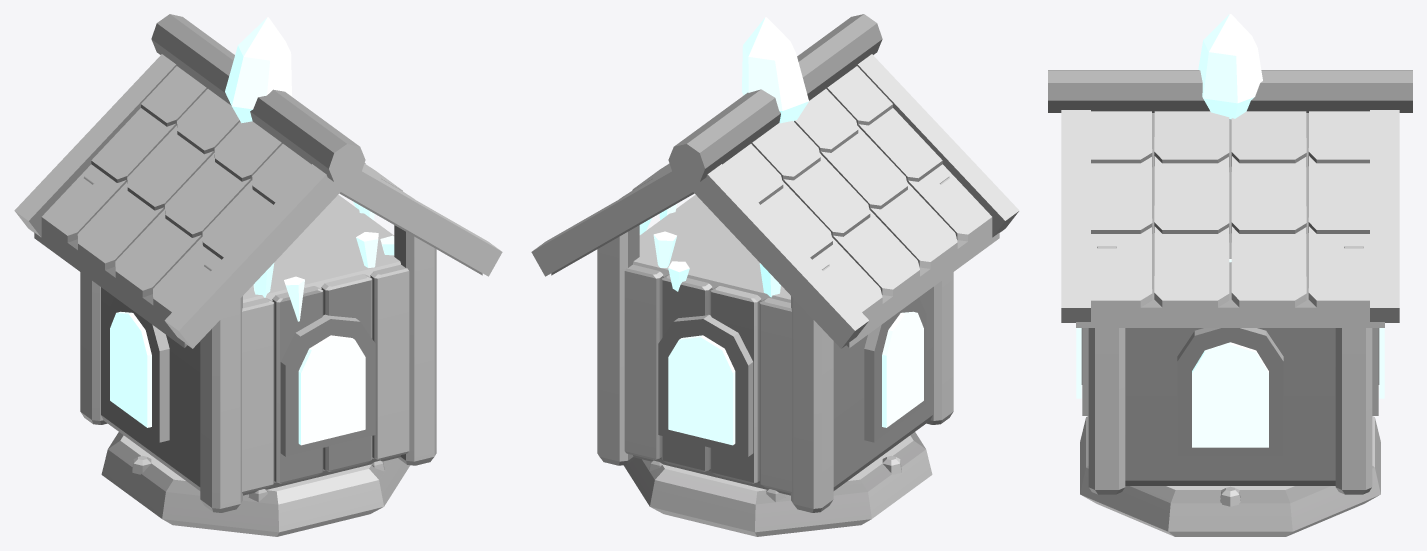
File: rime.glb
The picture shows the model from 3 angles, left to right: view 1: azimuth 30°, elevation 25°; view 2: azimuth 150°, elevation 25°; view 3: azimuth 270°, elevation 25°; orthographic projection. The views are drawn at different scales.
Parts seen in each view (by area): view 1: rime.001; view 2: rime.001; view 3: rime.001.
Part boxes in pixels (bbox=[...]): rime.001: bbox=[14, 14, 502, 536]; rime.001: bbox=[531, 14, 1019, 536]; rime.001: bbox=[1048, 14, 1412, 536].
Size of the model in its own units: 1.37 by 1.85 by 1.3.
